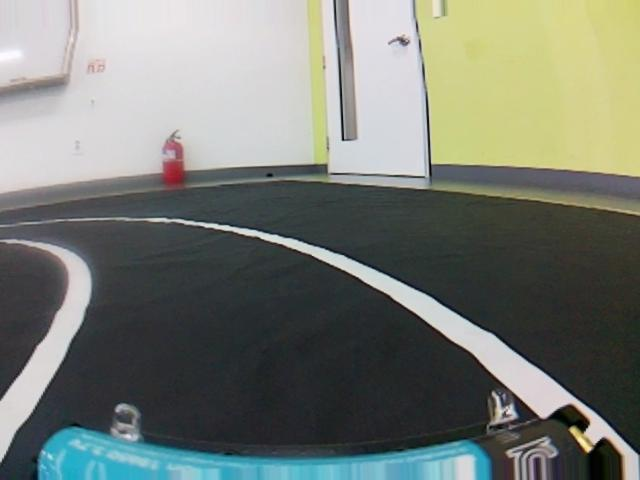straight: (0, 284, 639, 478)
